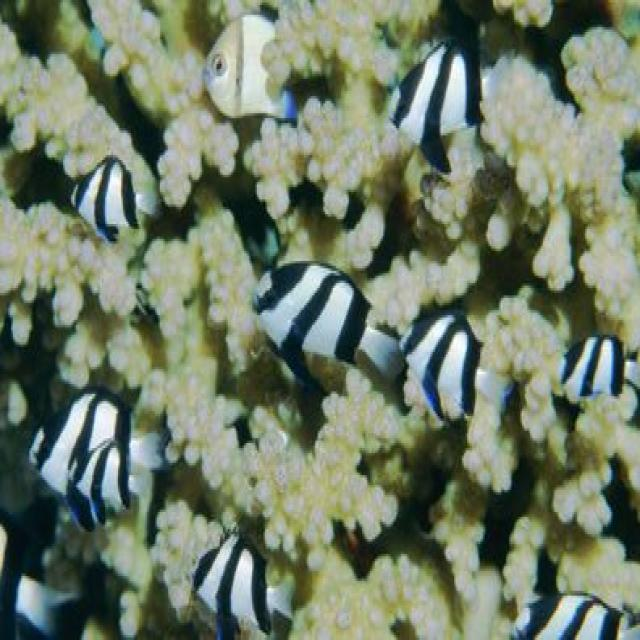ThreeStripedDamselfish: (254, 261, 409, 401), (389, 39, 504, 175)
